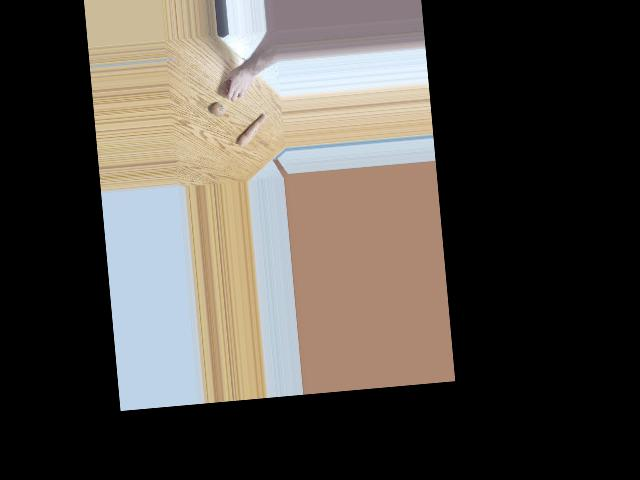onion: (221, 77, 237, 97)
